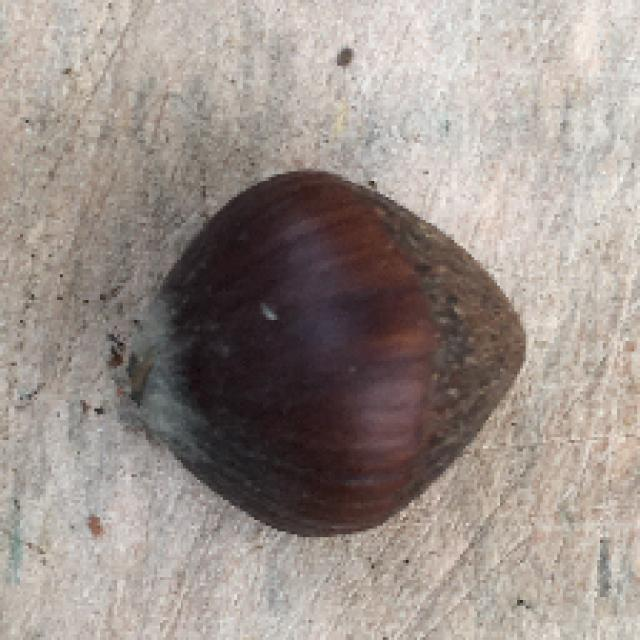damagedHazelnut: (114, 165, 537, 552)
